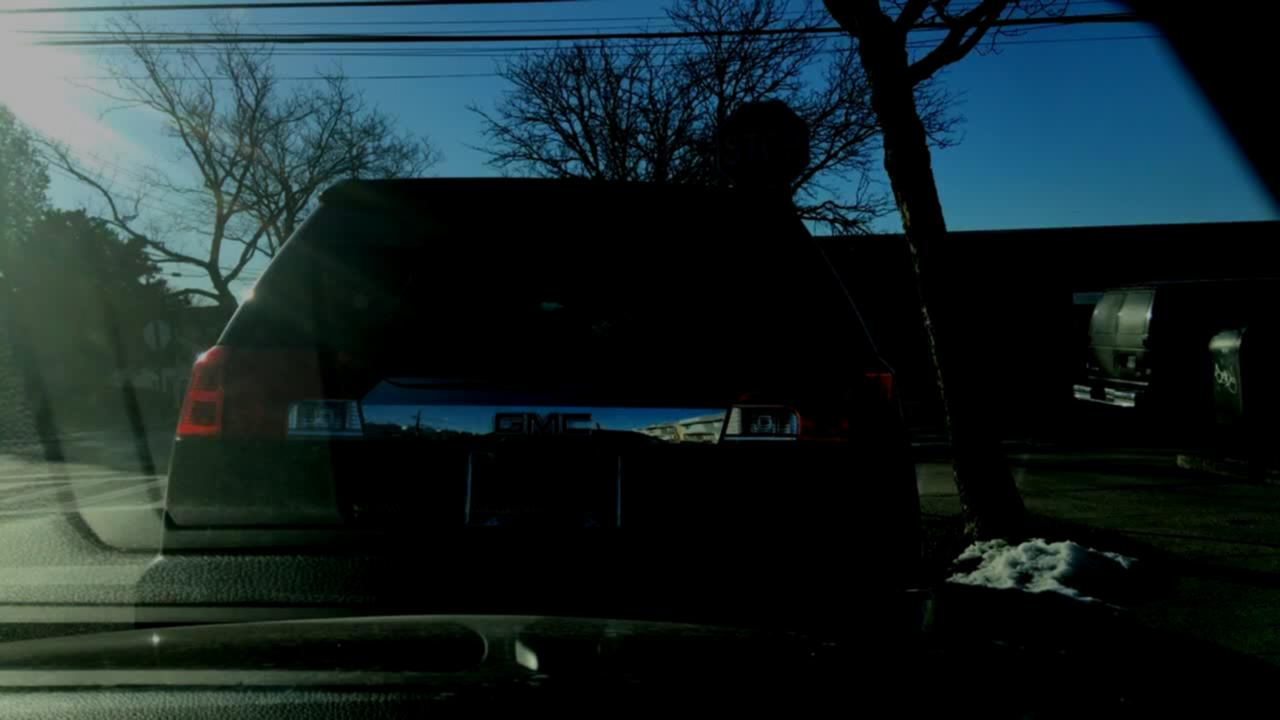GMC: (458, 388, 628, 450)
